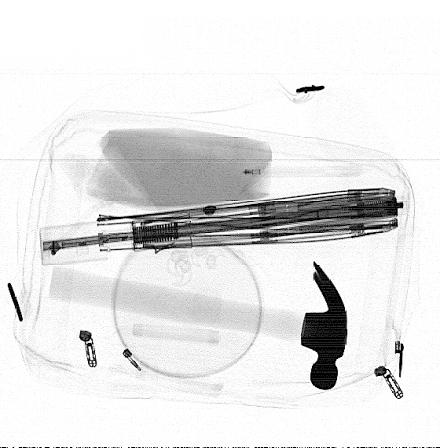Hammer: (49, 259, 348, 391)
